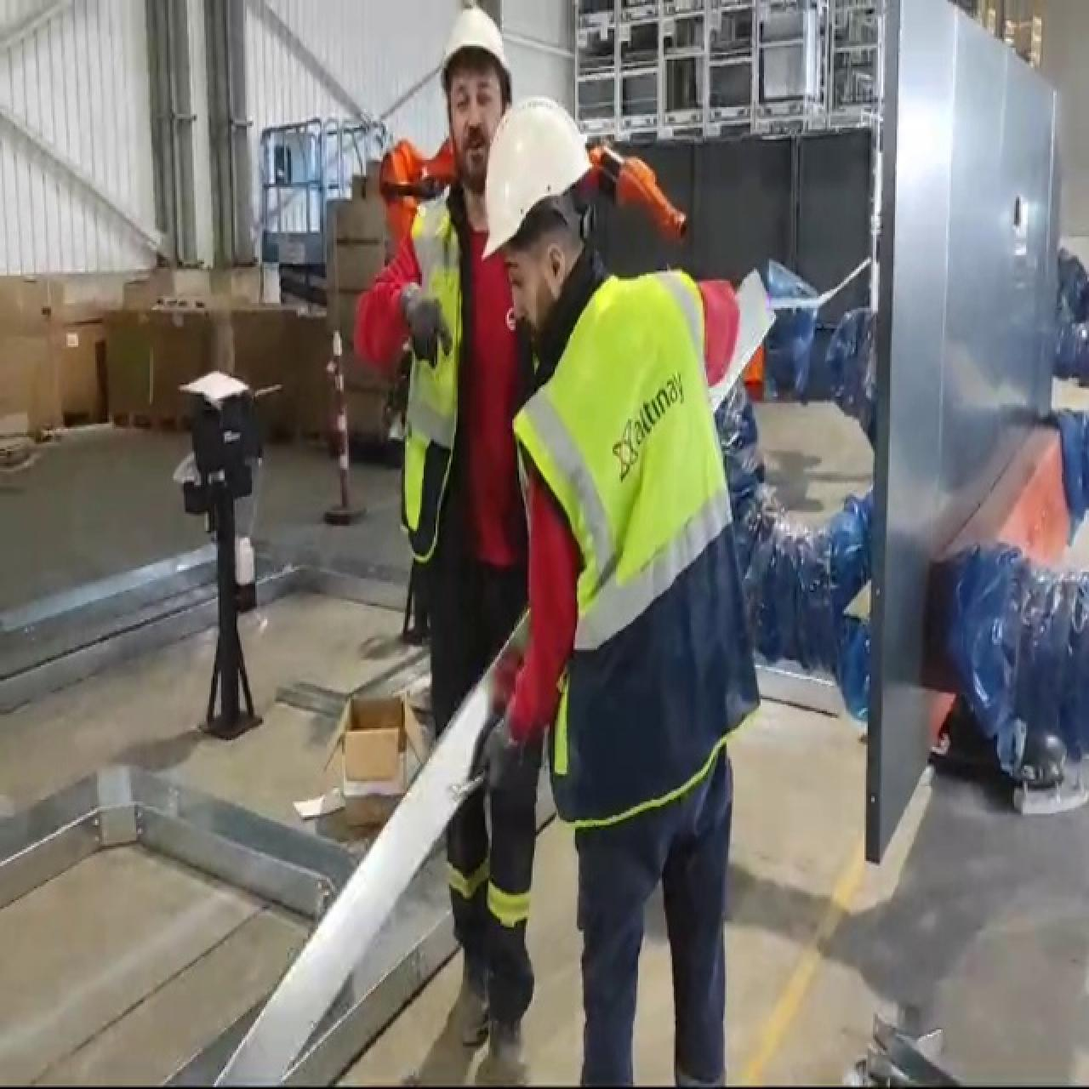Person: (478, 77, 792, 1089), (355, 0, 563, 1068)
Safety_Vest: (505, 258, 760, 824), (399, 200, 526, 568)
